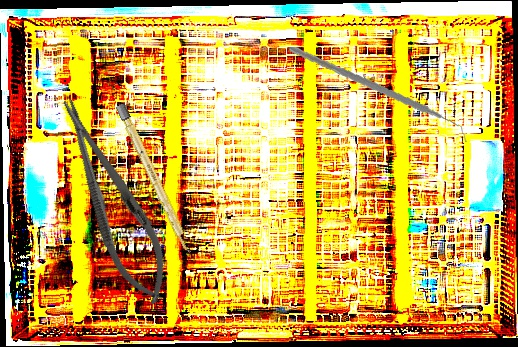Chopper: (288, 27, 468, 162)
Needle Holder: (43, 88, 184, 313)
Scalpel Handle: (115, 103, 194, 255)
